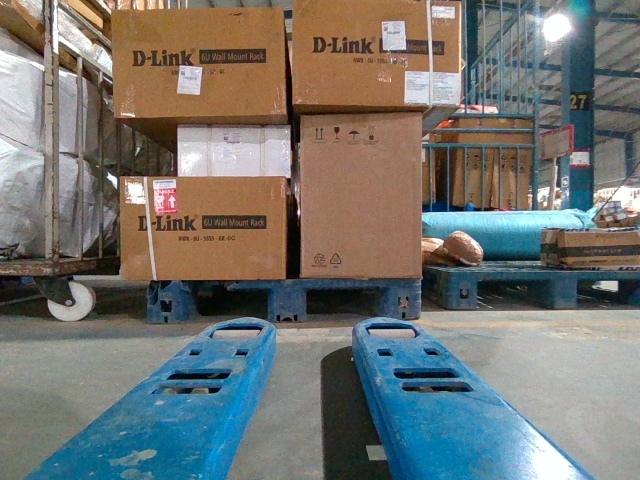block: (144, 281, 190, 326), (377, 279, 422, 320), (270, 280, 308, 324), (441, 269, 480, 310), (549, 271, 579, 309)
front: (146, 279, 420, 328), (446, 269, 639, 308)
hole pallet: (305, 289, 388, 321), (188, 290, 269, 322), (478, 279, 548, 312), (579, 279, 637, 306)
